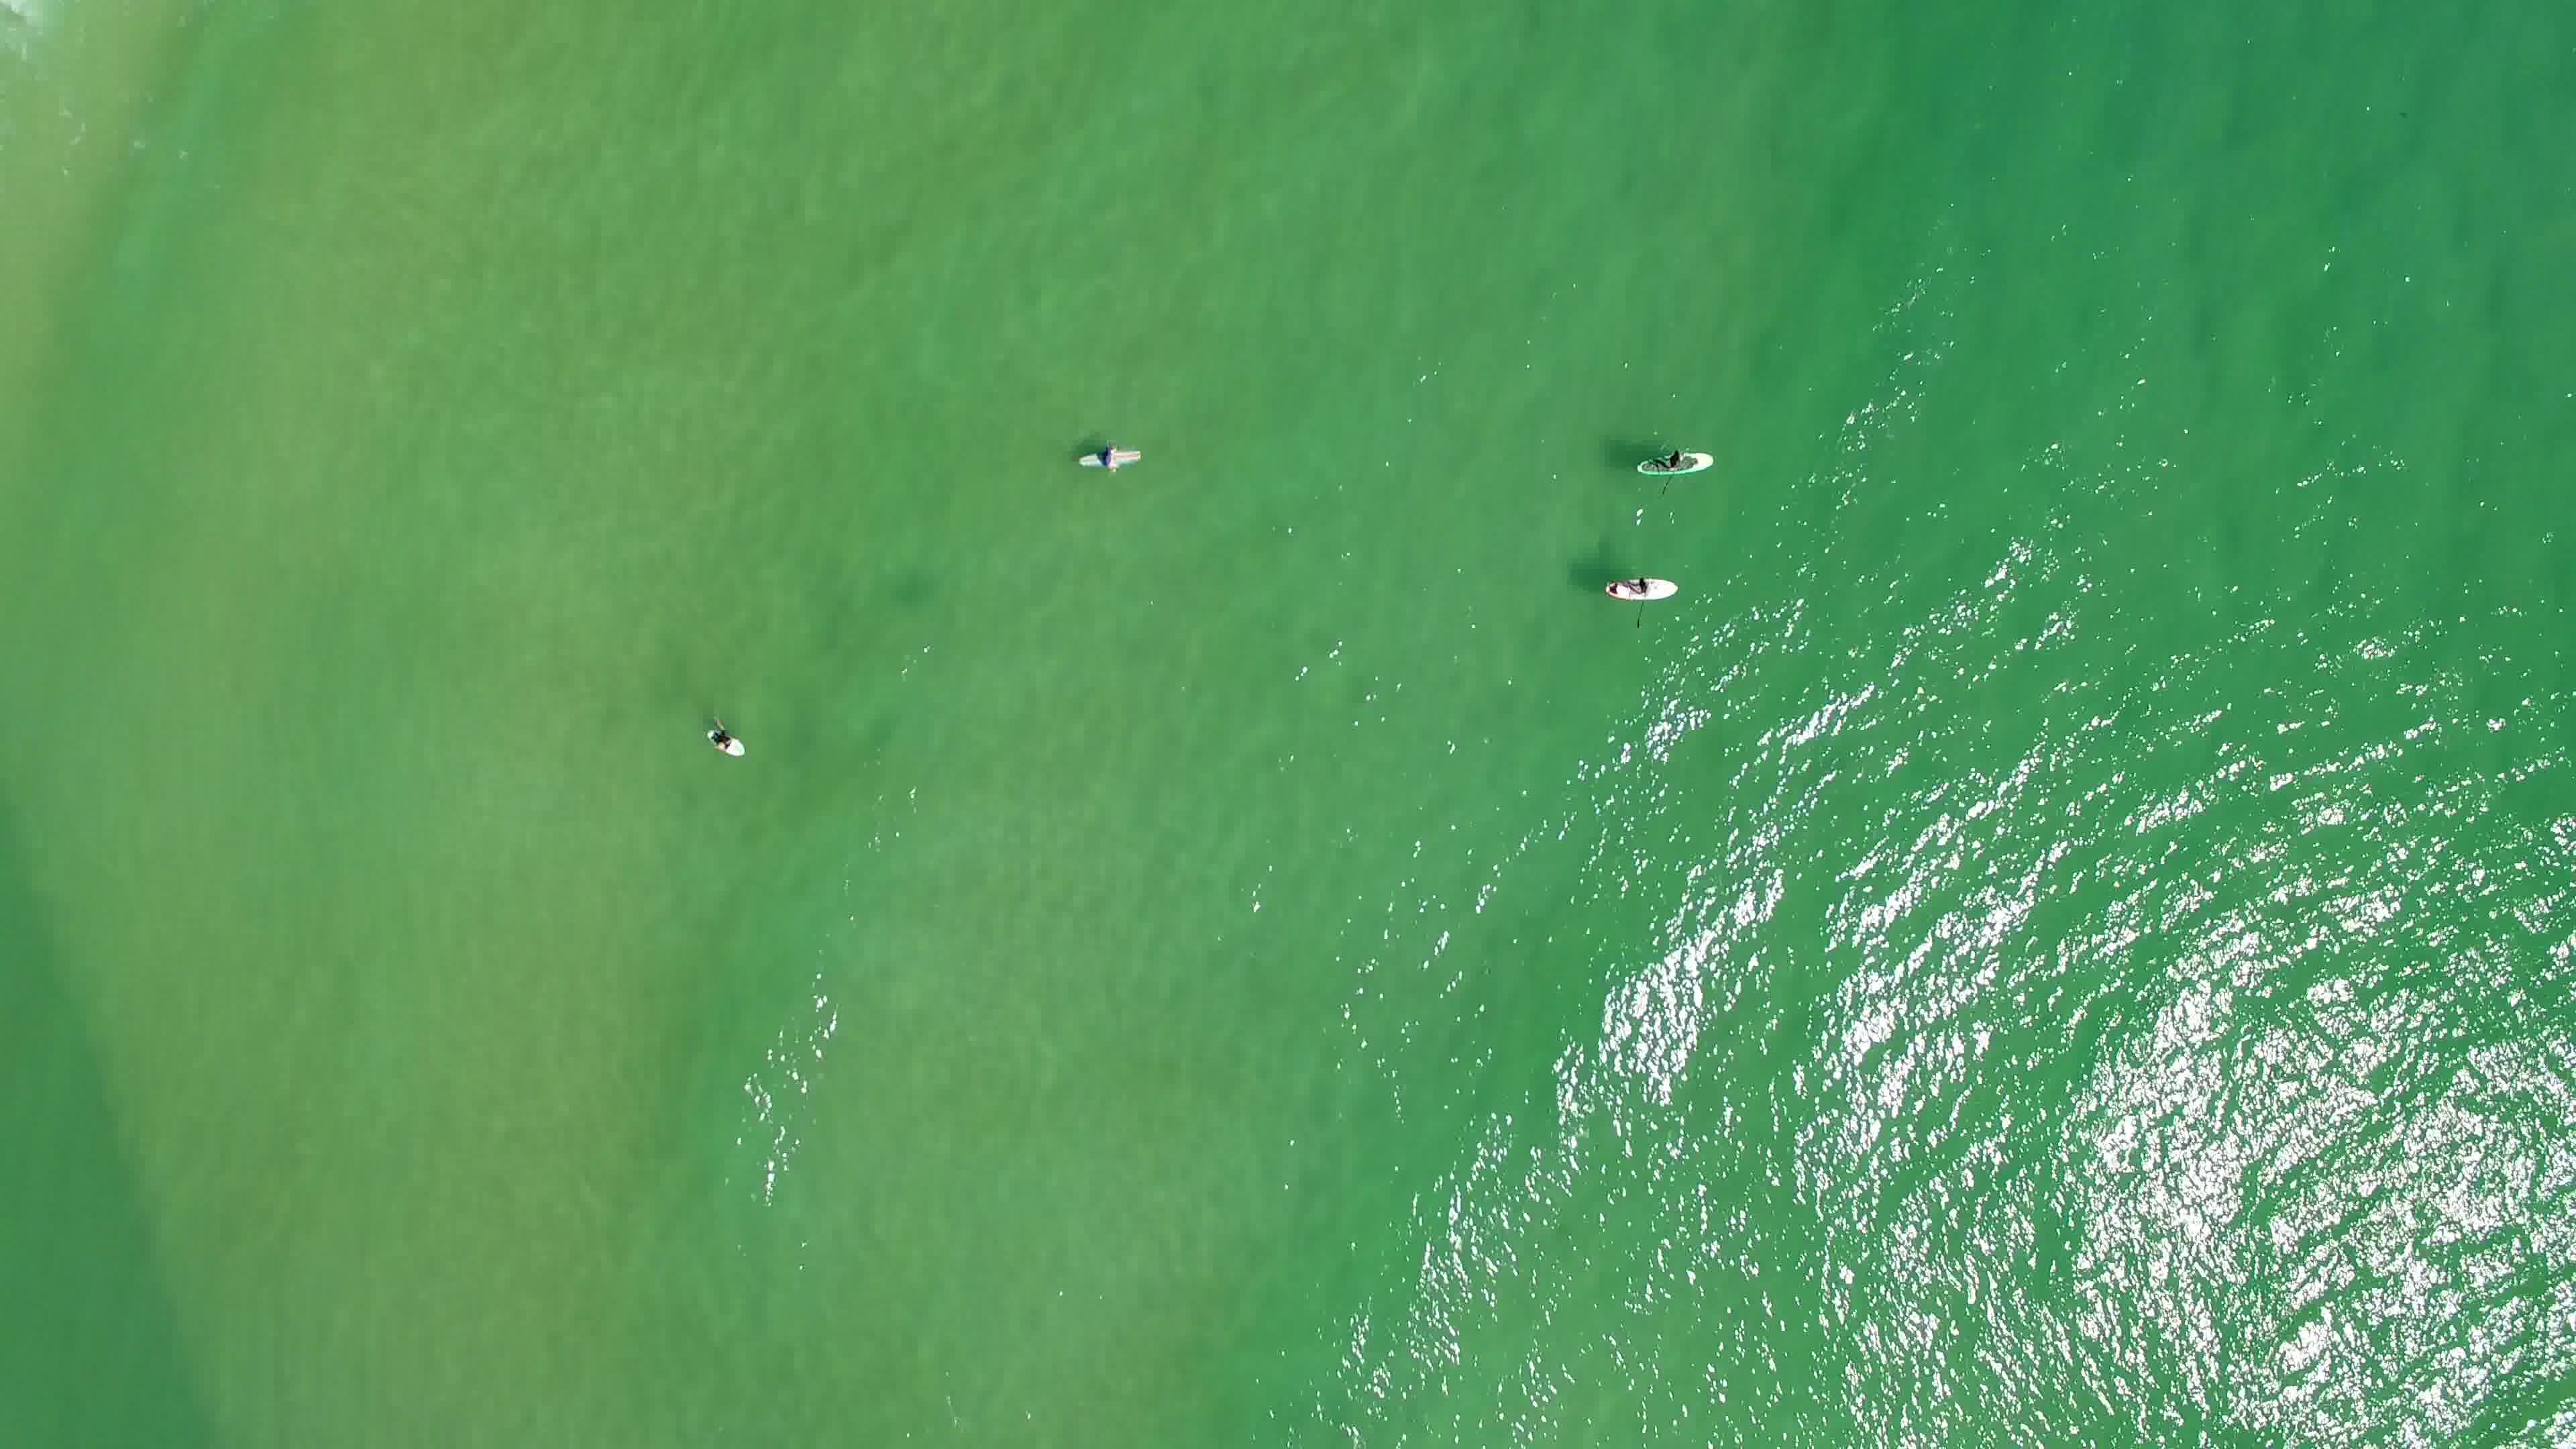surfer: (1633, 435, 1720, 495), (1603, 566, 1688, 610), (1070, 435, 1150, 476), (695, 715, 757, 764)
